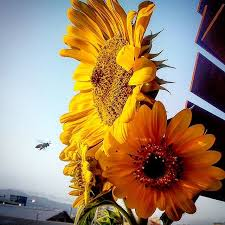girasol: (67, 2, 151, 150), (120, 108, 217, 217)
